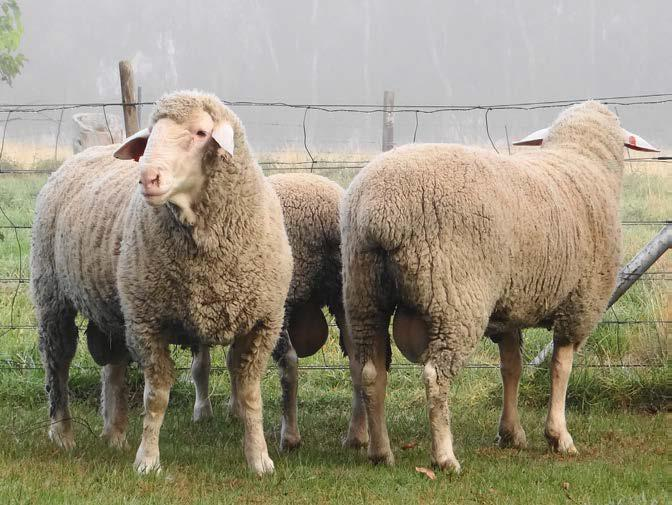sheep: (348, 97, 637, 454), (34, 106, 298, 471)
